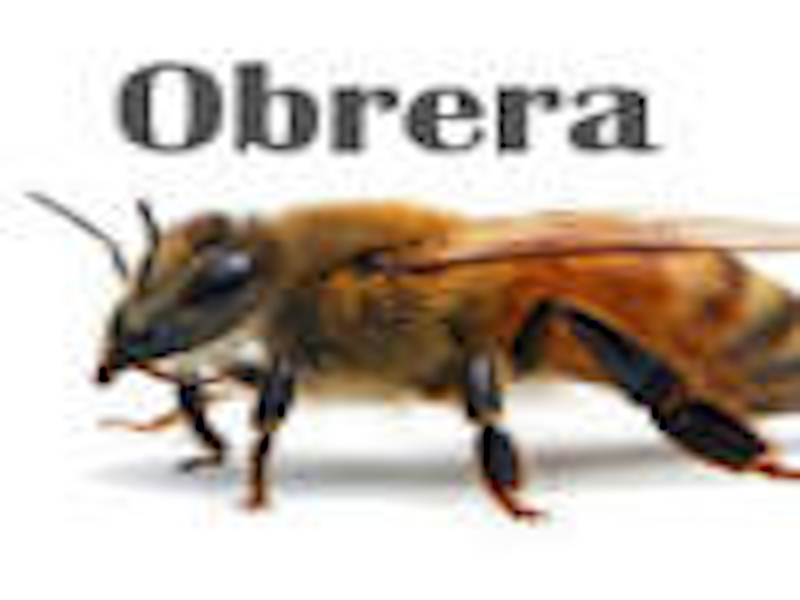abeja: (22, 182, 800, 528)
